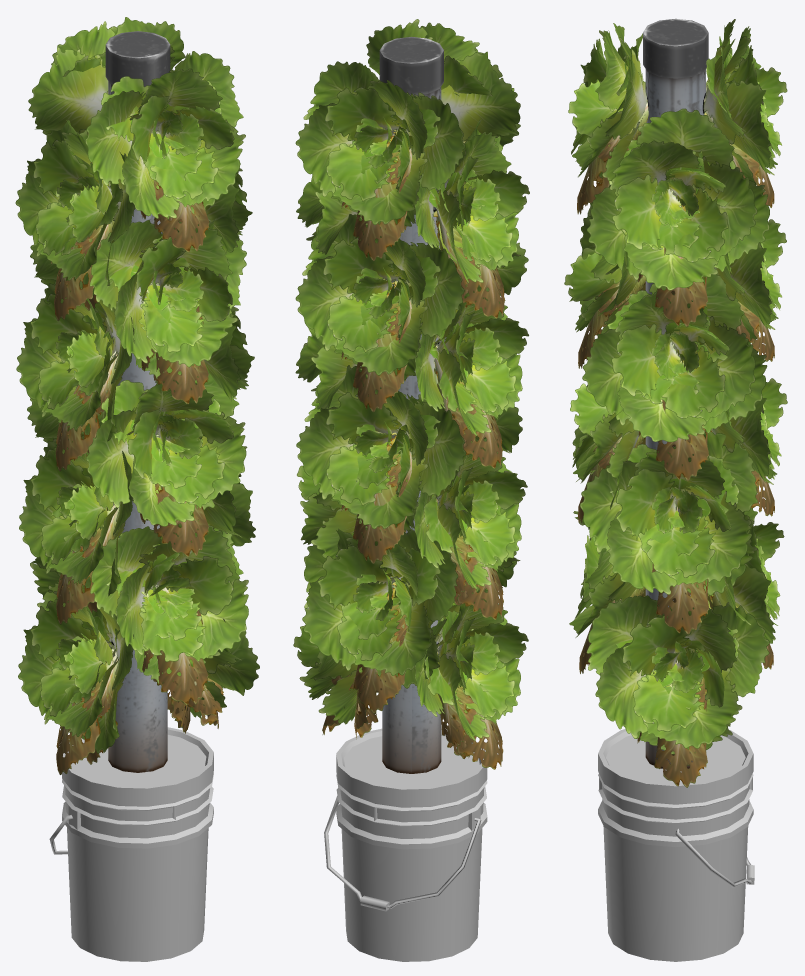
The model's file is hydroponics_tower01_lettuce.fbx.
3 renders of one model, left to right at view 1: azimuth 30°, elevation 25°; view 2: azimuth 150°, elevation 25°; view 3: azimuth 270°, elevation 25°, orthographic.
Visible parts, largest first — view 1: hydroponics_tower01_S3_lettuce, hydroponics_tower01_lettuce, hydroponics_tower01_S4_lettuce, hydroponics_tower01_S2_lettuce, hydroponics_tower01_S1_lettuce; view 2: hydroponics_tower01_S3_lettuce, hydroponics_tower01_lettuce, hydroponics_tower01_S4_lettuce, hydroponics_tower01_S2_lettuce, hydroponics_tower01_S1_lettuce; view 3: hydroponics_tower01_S3_lettuce, hydroponics_tower01_lettuce, hydroponics_tower01_S4_lettuce, hydroponics_tower01_S2_lettuce, hydroponics_tower01_S1_lettuce.
Boxes of the visible parts, x1,y1,x2,y2 form: hydroponics_tower01_S3_lettuce: (15,17,259,753); hydroponics_tower01_lettuce: (49,31,213,961); hydroponics_tower01_S4_lettuce: (49,130,224,774); hydroponics_tower01_S2_lettuce: (47,46,221,704); hydroponics_tower01_S1_lettuce: (90,104,199,639); hydroponics_tower01_S3_lettuce: (293,19,529,740); hydroponics_tower01_lettuce: (324,36,487,961); hydroponics_tower01_S4_lettuce: (322,130,505,769); hydroponics_tower01_S2_lettuce: (336,55,504,705); hydroponics_tower01_S1_lettuce: (363,93,468,682); hydroponics_tower01_S3_lettuce: (564,19,787,754); hydroponics_tower01_lettuce: (598,18,754,961); hydroponics_tower01_S4_lettuce: (577,98,774,787); hydroponics_tower01_S2_lettuce: (582,33,769,709); hydroponics_tower01_S1_lettuce: (624,60,727,687).
Bounding box in the file's own units: 0.4548 × 2 × 0.4584.
